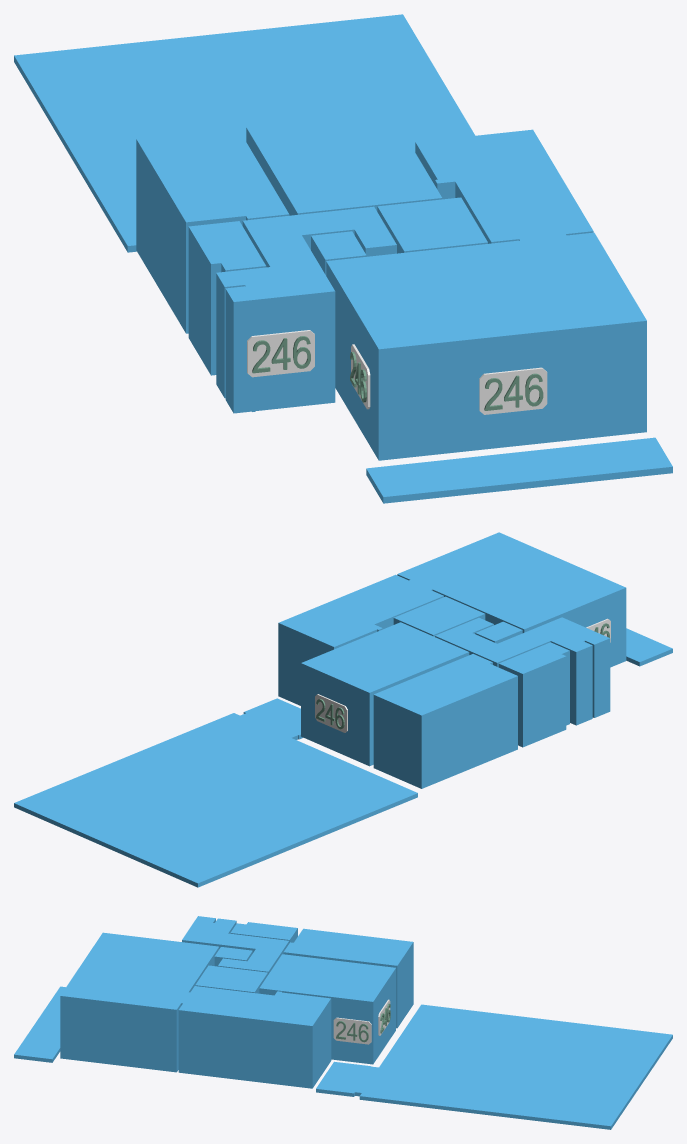
3 renders of one model, top to bottom at view 1: azimuth 30°, elevation 25°; view 2: azimuth 150°, elevation 25°; view 3: azimuth 270°, elevation 25°, orthographic. The views are drawn at different scales.
Parts seen in each view (by area): view 1: g_1, g_9, g_4, g_7, g_6, g_0, g_8, g_5, g_2, g_17, g_29, g_3; view 2: g_9, g_7, g_1, g_6, g_0, g_4, g_5, g_2, g_8, g_25, g_3; view 3: g_9, g_1, g_0, g_6, g_7, g_4, g_8, g_2, g_5, g_21, g_3.
Boxes of the visible parts, bbox=[...] form: g_1: bbox=[326, 232, 646, 460]; g_9: bbox=[14, 14, 474, 252]; g_4: bbox=[216, 206, 396, 413]; g_7: bbox=[136, 128, 289, 333]; g_6: bbox=[246, 111, 442, 215]; g_0: bbox=[415, 129, 593, 243]; g_8: bbox=[366, 437, 672, 503]; g_5: bbox=[188, 221, 266, 375]; g_2: bbox=[377, 197, 487, 253]; g_17: bbox=[479, 367, 547, 414]; g_29: bbox=[247, 330, 314, 377]; g_3: bbox=[311, 231, 366, 275]; g_9: bbox=[14, 698, 417, 887]; g_7: bbox=[373, 654, 517, 788]; g_1: bbox=[397, 532, 626, 667]; g_6: bbox=[301, 622, 469, 766]; g_0: bbox=[278, 574, 443, 705]; g_4: bbox=[435, 617, 610, 725]; g_5: bbox=[498, 642, 569, 747]; g_2: bbox=[393, 596, 485, 636]; g_8: bbox=[626, 628, 672, 666]; g_25: bbox=[315, 694, 347, 732]; g_3: bbox=[475, 621, 522, 643]; g_9: bbox=[316, 1004, 672, 1129]; g_1: bbox=[60, 932, 219, 1072]; g_0: bbox=[178, 986, 331, 1088]; g_6: bbox=[259, 954, 395, 1064]; g_7: bbox=[283, 928, 413, 1028]; g_4: bbox=[182, 916, 289, 974]; g_8: bbox=[14, 986, 65, 1062]; g_2: bbox=[195, 965, 267, 993]; g_5: bbox=[230, 922, 297, 942]; g_21: bbox=[333, 1017, 371, 1044]; g_3: bbox=[214, 947, 252, 966].
Size of the model in its own units: 12.98 by 2.74 by 24.56.
